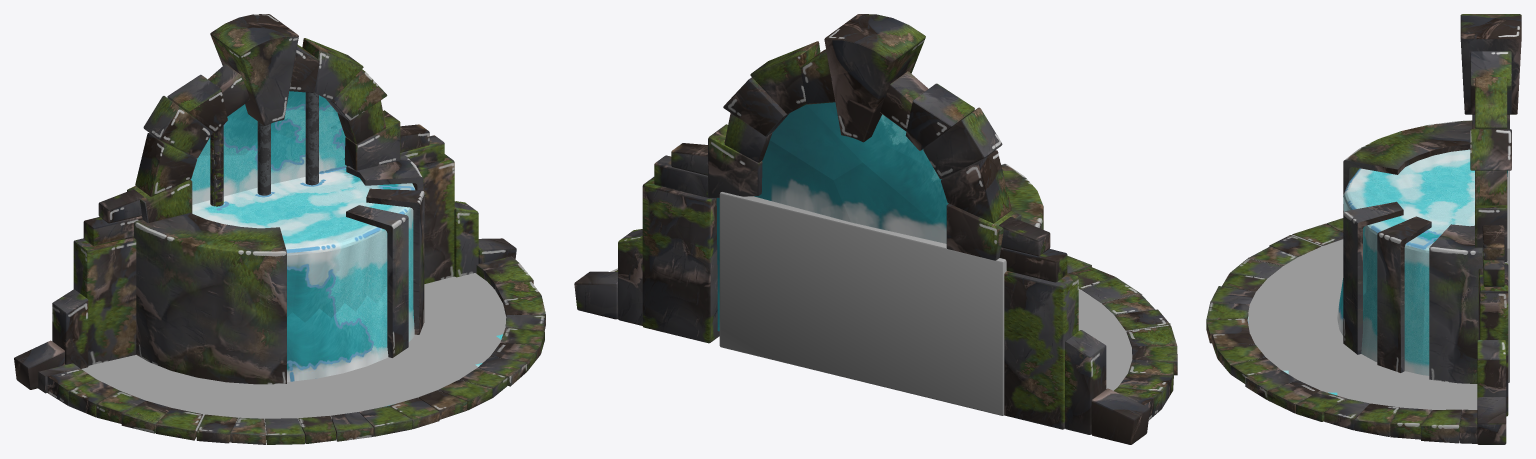
Rendered from fontaine.fbx.
The picture shows the model from 3 angles, left to right: view 1: azimuth 30°, elevation 25°; view 2: azimuth 150°, elevation 25°; view 3: azimuth 270°, elevation 25°; orthographic projection. The views are drawn at different scales.
Visible parts, largest first — view 1: Cylinder.001, Cylinder, Cube.010, Cube.011, pPlane1, Cube.005, pasted__pasted__pPlane1, pasted__pPlane1, pasted__pasted__pasted__pPlane1, Cube, Cube.006, Cube.001 (+9 smaller); view 2: Cube.012, Cube.010, Cylinder, Cube, Cube.005, Cube.011, Cube.006, Cube.007, Cube.001, Cube.002, Cube.008, Cylinder.001 (+6 smaller); view 3: Cylinder.001, Cube.011, Cylinder, Cube.010, pasted__pasted__pPlane1, pasted__pasted__pasted__pPlane1, pPlane1, Cube, pasted__pPlane1, Cube.001, Cube.002, Cube.004 (+2 smaller).
Part boxes in pixels (<box>): Cylinder.001: <box>133,155,424,384</box>; Cylinder: <box>190,91,502,406</box>; Cube.010: <box>127,14,400,222</box>; Cube.011: <box>38,256,545,444</box>; pPlane1: <box>81,273,505,404</box>; Cube.005: <box>73,237,136,365</box>; pasted__pasted__pPlane1: <box>188,333,500,432</box>; pasted__pPlane1: <box>137,310,506,410</box>; pasted__pasted__pasted__pPlane1: <box>236,360,477,435</box>; Cube: <box>417,154,454,283</box>; Cube.006: <box>52,289,88,368</box>; Cube.001: <box>454,201,478,277</box>; Cube.012: <box>719,192,1006,415</box>; Cube.010: <box>708,14,1021,260</box>; Cylinder: <box>716,102,948,331</box>; Cube: <box>642,177,719,343</box>; Cube.005: <box>1004,271,1078,429</box>; Cube.011: <box>610,255,1177,420</box>; Cube.006: <box>1065,330,1106,434</box>; Cube.007: <box>1091,388,1149,444</box>; Cube.001: <box>618,229,642,325</box>; Cube.002: <box>574,271,617,319</box>; Cube.008: <box>999,247,1067,282</box>; Cylinder.001: <box>1001,164,1043,229</box>; Cylinder.001: <box>1343,120,1482,383</box>; Cube.011: <box>1206,218,1477,443</box>; Cylinder: <box>1247,149,1507,395</box>; Cube.010: <box>1460,14,1521,261</box>; pasted__pasted__pPlane1: <box>1288,235,1343,392</box>; pasted__pasted__pasted__pPlane1: <box>1248,257,1302,370</box>; pPlane1: <box>1361,354,1477,410</box>; Cube: <box>1478,263,1508,416</box>; pasted__pPlane1: <box>1337,240,1391,406</box>; Cube.001: <box>1477,340,1506,397</box>; Cube.002: <box>1477,397,1506,444</box>; Cube.004: <box>1482,225,1504,260</box>.
Bounding box in the file's own units: 819 × 482 × 456.
